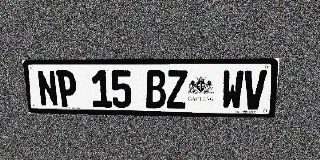1: (90, 70, 112, 108)
5: (111, 70, 132, 108)
B: (145, 70, 166, 108)
N: (36, 70, 59, 107)
P: (56, 70, 78, 107)
V: (243, 70, 267, 110)
W: (221, 70, 244, 109)
Z: (166, 70, 187, 109)
